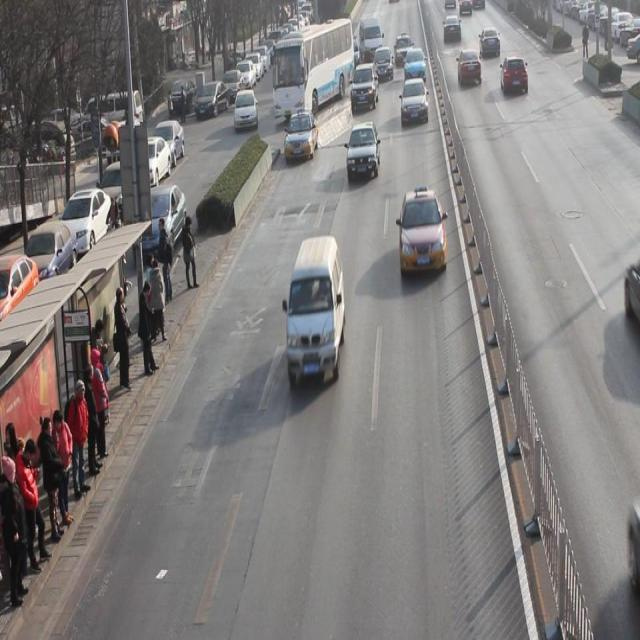car: (399, 187, 447, 278), (346, 122, 381, 180), (286, 110, 320, 165), (352, 64, 379, 114), (402, 78, 429, 127), (501, 55, 529, 97), (457, 48, 483, 86), (404, 47, 427, 85), (372, 46, 395, 84), (479, 27, 502, 62)
truck: (287, 236, 346, 390)
van: (273, 21, 354, 120)
